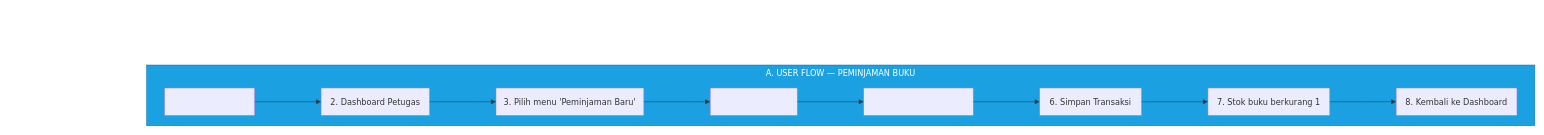
Image size: 1544x135. Some labels were removed from this diagram. The shapes that lost their labels are listed below. From the top down, each one's centre as x and y in pixels, then its label:
At (x=209, y=101): "1. Petugas Login".
At (x=753, y=101): "4. Pilih Anggota".
At (x=918, y=101): "5. Pilih Buku 'stok > 0'".
